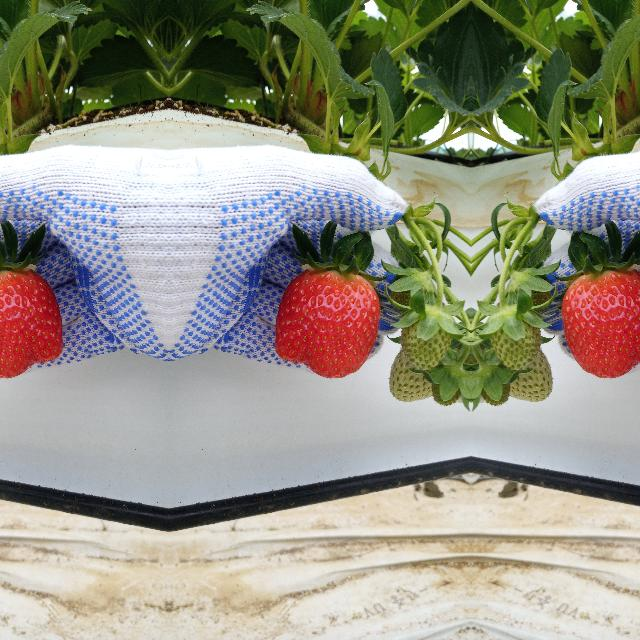Health_100: (273, 267, 381, 378), (560, 267, 640, 378), (0, 267, 63, 378)
Health_25: (386, 339, 439, 407), (502, 339, 554, 407), (403, 306, 455, 366), (486, 306, 538, 366)
